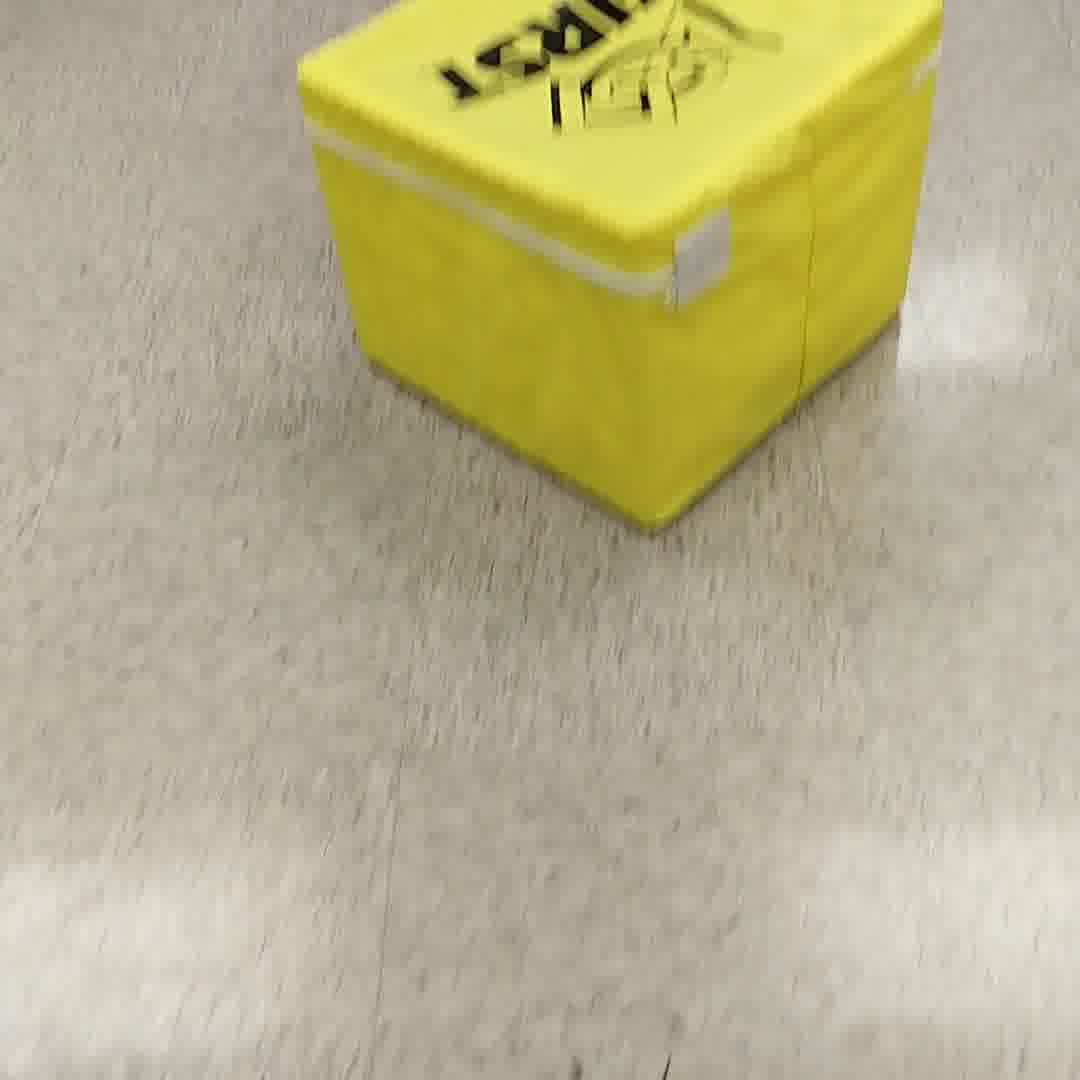box: (287, 3, 948, 552)
